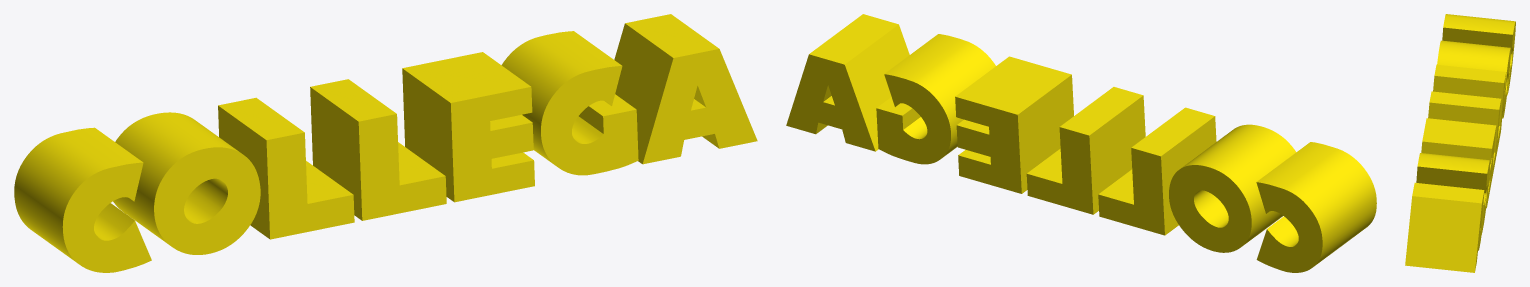
Rendered from COLLEGA.dae.
The picture shows the model from 3 angles, left to right: view 1: azimuth 30°, elevation 25°; view 2: azimuth 150°, elevation 25°; view 3: azimuth 270°, elevation 25°; orthographic projection. The views are drawn at different scales.
Visible parts, largest first — view 1: COLLEGA; view 2: COLLEGA; view 3: COLLEGA.
Boxes of the visible parts, x1=… form: COLLEGA: x1=14, y1=14, x2=757, y2=272; COLLEGA: x1=786, y1=14, x2=1376, y2=272; COLLEGA: x1=1405, y1=14, x2=1515, y2=272.
Bounding box in the file's own units: 1137 × 179 × 262.
